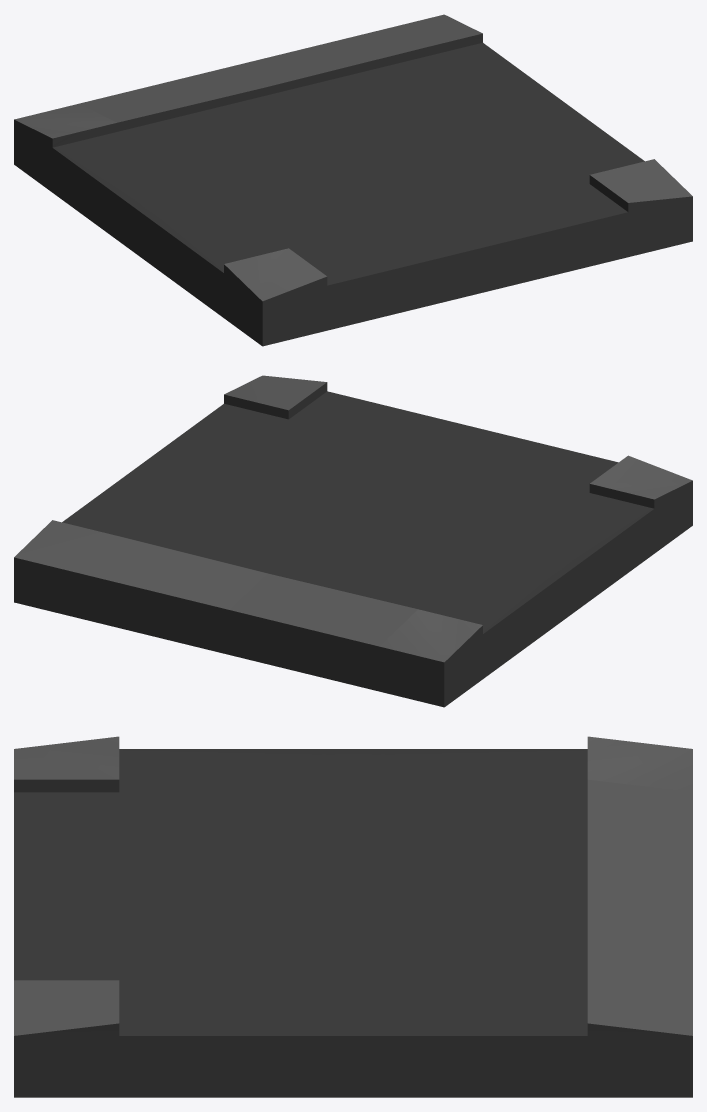
The model's file is t_road.fbx.
3 views of the same model, one above another, from view 1: azimuth 30°, elevation 25°; view 2: azimuth 150°, elevation 25°; view 3: azimuth 270°, elevation 25° (orthographic). The views are drawn at different scales.
Visible parts, largest first — view 1: T_road; view 2: T_road; view 3: T_road.
Part boxes in pixels (<box>): T_road: <box>14,14,692,346</box>; T_road: <box>14,375,692,707</box>; T_road: <box>14,736,692,1097</box>.
Bounding box in the file's own units: 200 × 200 × 24.07.
1 material, 1 textured.
